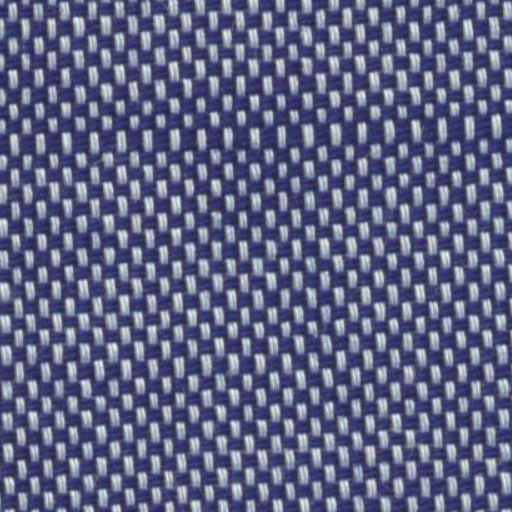TuoSha: (16, 106, 494, 175)
